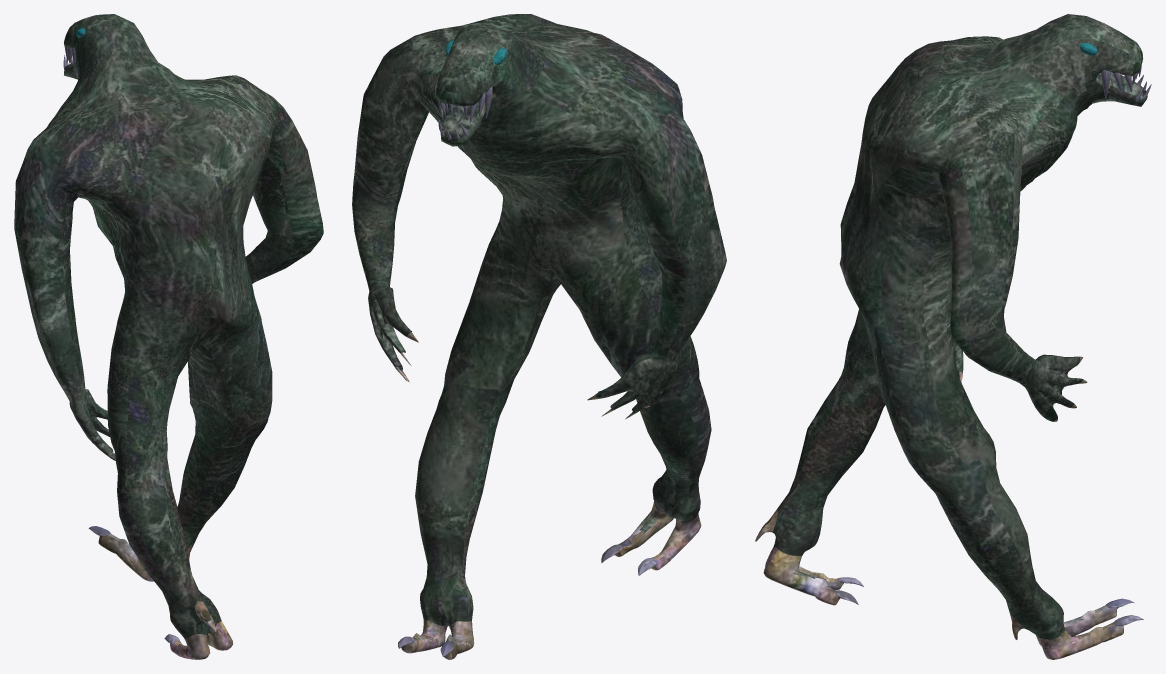
The model's file is Andar.0005.obj.
3 renders of one model, left to right at view 1: azimuth 30°, elevation 25°; view 2: azimuth 150°, elevation 25°; view 3: azimuth 270°, elevation 25°, orthographic. The views are drawn at different scales.
Parts seen in each view (by area): view 1: polySurface28; view 2: polySurface28; view 3: polySurface28.
Part boxes in pixels (x1,y1,x2,y2): polySurface28: (14, 14, 323, 659); polySurface28: (352, 14, 726, 659); polySurface28: (755, 14, 1151, 659).
Size of the model in its own units: 1.27 by 2.26 by 1.33.
Materials: 4 (4 with a texture image).
